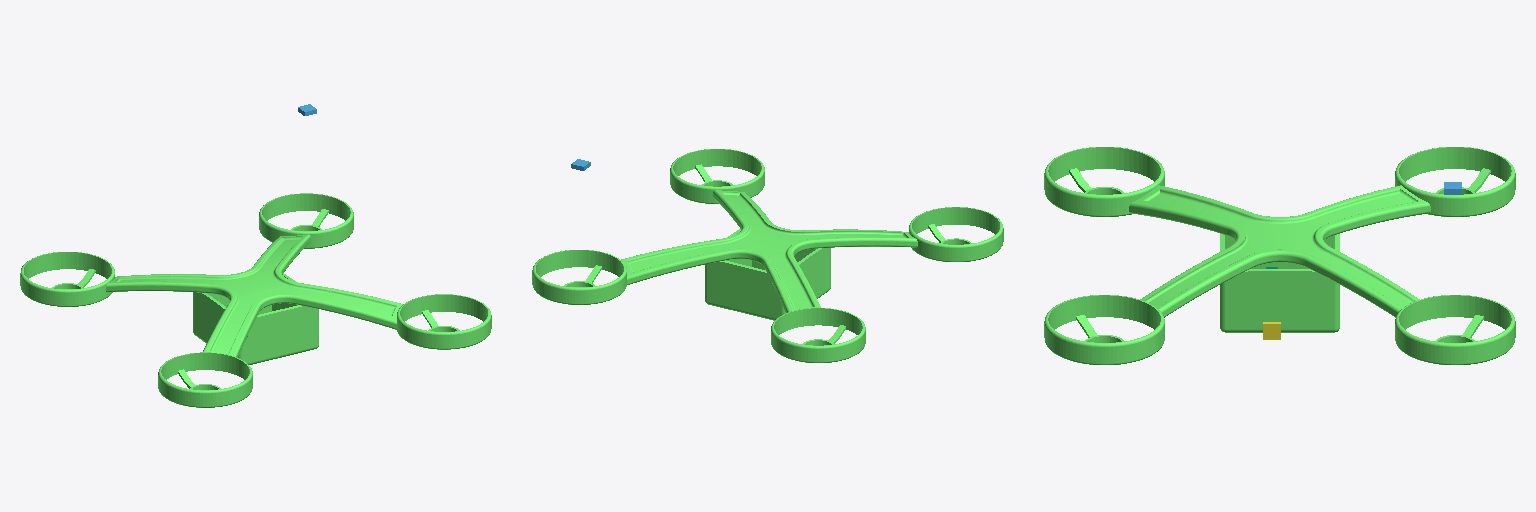
The robot description file, URDF, robot "assembly_1":
<?xml version="1.0" ?>
<robot name="assembly_1">
  <link name="root">
    <inertial>
      <mass value="1.0"/>
      <origin rpy="0 -0 0" xyz="0 0 0"/>
      <inertia ixx="0.1" ixy="0" ixz="0" iyy="0.1" iyz="0" izz="0.1"/>
    </inertial>
    <visual>
      <origin rpy="0 -0 0" xyz="0.00908956 0.0132281 -0.0575308"/>
      <geometry>
        <mesh filename="package://assembly_1/meshes/Default.stl" scale="1 1 1"/>
      </geometry>
      <material name="0.501961_1.000000_0.501961_0.000000_0.000000">
        <color rgba="0.501961 1 0.501961 1"/>
      </material>
    </visual>
    <collision>
      <origin rpy="0 -0 0" xyz="0.00908956 0.0132281 -0.0575308"/>
      <geometry>
        <mesh filename="package://assembly_1/meshes/Default.stl" scale="1 1 1"/>
      </geometry>
    </collision>
  </link>
  <joint name="gps_joint" type="fixed">
    <!-- the root of the drone or the component that the gps link attched to -->
    <parent link="root"/>
    <!-- the gps link  -->
    <child link="gps"/>
    <origin rpy="0 0 0" xyz="0.3 0.3 0.3"/>
  </joint>
  <link name="gps">
    <visual>
      <geometry>
        <!-- the box around the drone -->
        <box size="0.03 0.03 0.01"/>
      </geometry>
    </visual>
    <inertial>
      <mass value="0.01"/>
      <!--//rpy rotation ;row, ptich , yaw  -->
      <origin rpy="0 0 0" xyz="0 0 0"/>
      <inertia ixx="0.00001" ixy="0" ixz="0" iyy="0.00001" iyz="0" izz="0.00001"/>
    </inertial>
  </link>
  <gazebo reference="gps">
    <sensor name="navsat_sensor" type="navsat">
      <always_on>1</always_on>
      <update_rate>10</update_rate>
      <topic>navsat</topic>
    </sensor>
  </gazebo>
  <gazebo>
    <plugin filename="gz-sim-imu-system" name="gz::sim::systems::Imu"/>
  </gazebo>
  <joint name="imu_joint" type="fixed">
    <child link="imu_link"/>
    <parent link="root"/>
    <origin rpy="0 0 0" xyz="0 0 0"/>
  </joint>
  <link name="imu_link">
    <visual>
      <geometry>
        <box size="0.02 0.02 0.02"/>
      </geometry>
    </visual>
    <inertial>
      <mass value="0.01"/>
      <origin rpy="0 0 0" xyz="0 0 0"/>
      <inertia ixx="0.00001" ixy="0" ixz="0" iyy="0.00001" iyz="0" izz="0.00001"/>
    </inertial>
  </link>
  <gazebo reference="imu_link">
    <sensor name="imu_sensor" type="imu">
      <always_on>1</always_on>
      <update_rate>100</update_rate>
      <visualize>true</visualize>
      <topic>imu</topic>
    </sensor>
  </gazebo>
  <gazebo>
    <plugin filename="ignition-gazebo-imu-system" name="ignition::gazebo::systems::Imu"/>
  </gazebo>
  <joint name="downward_camera_joint" type="fixed">
    <origin rpy="0.0 1.5708 0.0" xyz="0.1 0.0 -0.05"/>
    <parent link="root"/>
    <child link="camera_link"/>
  </joint>
  <link name="camera_link">
    <visual>
      <origin rpy="0 0 0" xyz="0 0 0"/>
      <geometry>
        <box size="0.03 0.03 0.03"/>
      </geometry>
    </visual>
    <collision>
      <origin rpy="0 0 0" xyz="0 0 0"/>
      <geometry>
        <box size="0.03 0.03 0.03"/>
      </geometry>
    </collision>
    <inertial>
      <mass value="0.05"/>
      <origin rpy="0 0 0" xyz="0 0 0"/>
      <inertia ixx="0.0001" ixy="0.0" ixz="0.0" iyy="0.0001" iyz="0.0" izz="0.0001"/>
    </inertial>
  </link>
  <gazebo reference="camera_link">
    <sensor name="downward_camera" type="camera">
      <update_rate>30.0</update_rate>
      <topic>camera/image_raw</topic>
      <pose>0 0 0 0 0 0</pose>
      <camera name="intel_cam">
        <horizontal_fov>1.3962634</horizontal_fov>
        <image>
          <width>640</width>
          <height>480</height>
          <format>R8G8B8</format>
        </image>
        <clip>
          <near>0.02</near>
          <far>300</far>
        </clip>
      </camera>
      <plugin filename="gz-sim-sensors-system" name="gz::sim::systems::Sensors"/>
    </sensor>
  </gazebo>
</robot>

--- Facts derived from the render (not from the file) ---
The picture shows the robot from 3 angles, left to right: view 1: azimuth 30°, elevation 25°; view 2: azimuth 150°, elevation 25°; view 3: azimuth 270°, elevation 25°; orthographic projection.
Model assembly_1 with 4 links and 3 joints (3 fixed), rooted at root, posed all joints at 0.
Visible links, largest first — view 1: root; view 2: root; view 3: root.
Boxes of the visible links, x1,y1,x2,y2 form: root: (20, 193, 491, 407); root: (532, 149, 1003, 362); root: (1044, 147, 1515, 364).
Size in the robot's own frame: 0.7822 by 0.7823 by 0.37 metres.
Meshes: 1 distinct files referenced, 1 mesh visuals loaded (1 binary STL).
